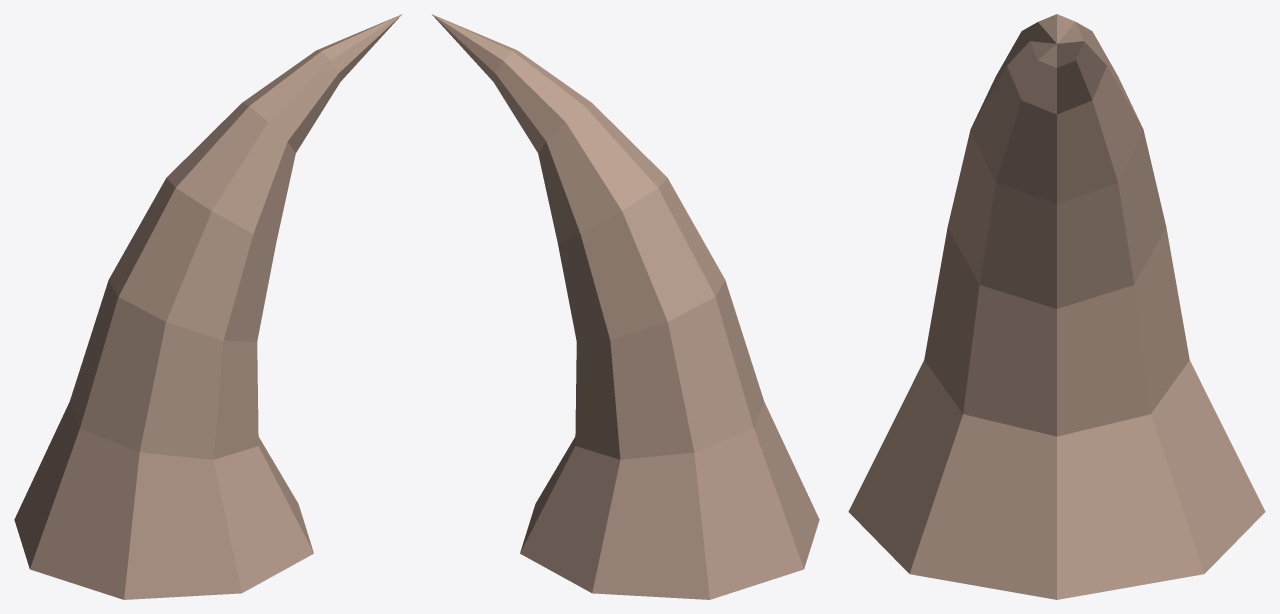
Rendered from horns_1.fbx.
3 views of the same model, side by side, from view 1: azimuth 30°, elevation 25°; view 2: azimuth 150°, elevation 25°; view 3: azimuth 270°, elevation 25° (orthographic). The views are drawn at different scales.
Parts seen in each view (by area): view 1: Cylinder.021; view 2: Cylinder.021; view 3: Cylinder.021.
Boxes of the visible parts, box(x1,y1,x2,y2) form: Cylinder.021: box(14, 14, 401, 599); Cylinder.021: box(432, 14, 819, 599); Cylinder.021: box(848, 14, 1265, 599).
Bounding box in the file's own units: 436 × 519 × 314.
Materials: 1 (1 with a texture image).
